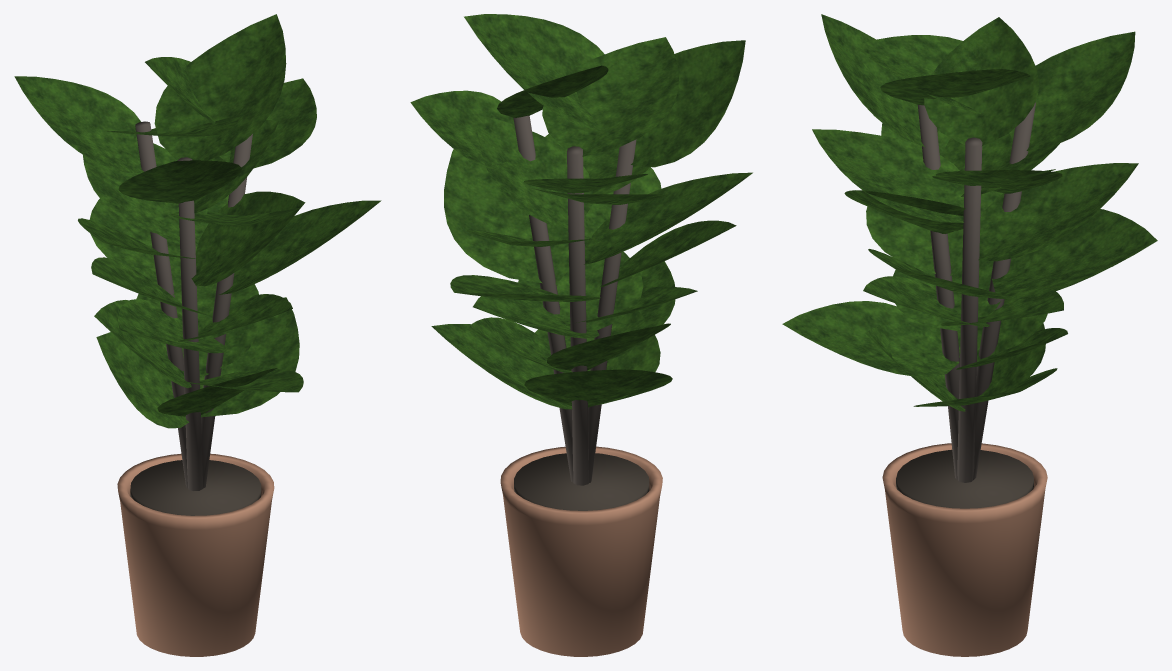
Rendered from dining_plant.glb.
The picture shows the model from 3 angles, left to right: view 1: azimuth 30°, elevation 25°; view 2: azimuth 150°, elevation 25°; view 3: azimuth 270°, elevation 25°; orthographic projection. The views are drawn at different scales.
Visible parts, largest first — view 1: dining_plant; view 2: dining_plant; view 3: dining_plant.
Boxes of the visible parts, left/top/right/bottom form: dining_plant: left=14, top=14, right=381, bottom=656; dining_plant: left=410, top=14, right=752, bottom=656; dining_plant: left=782, top=14, right=1157, bottom=656.
Bounding box in the file's own units: 0.7669 × 1.52 × 0.8455.
Materials: 4 (1 with a texture image).
